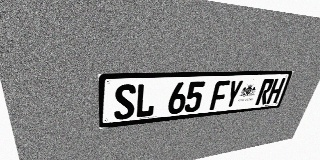5: (184, 81, 205, 113)
6: (167, 82, 189, 115)
F: (209, 80, 230, 110)
H: (266, 78, 286, 104)
L: (135, 83, 157, 118)
R: (255, 79, 275, 105)
S: (114, 84, 136, 120)
Y: (223, 80, 244, 109)
